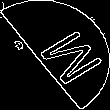M_SW: (16, 21, 94, 89)
